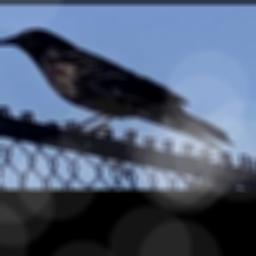Crow: (0, 28, 235, 152)
